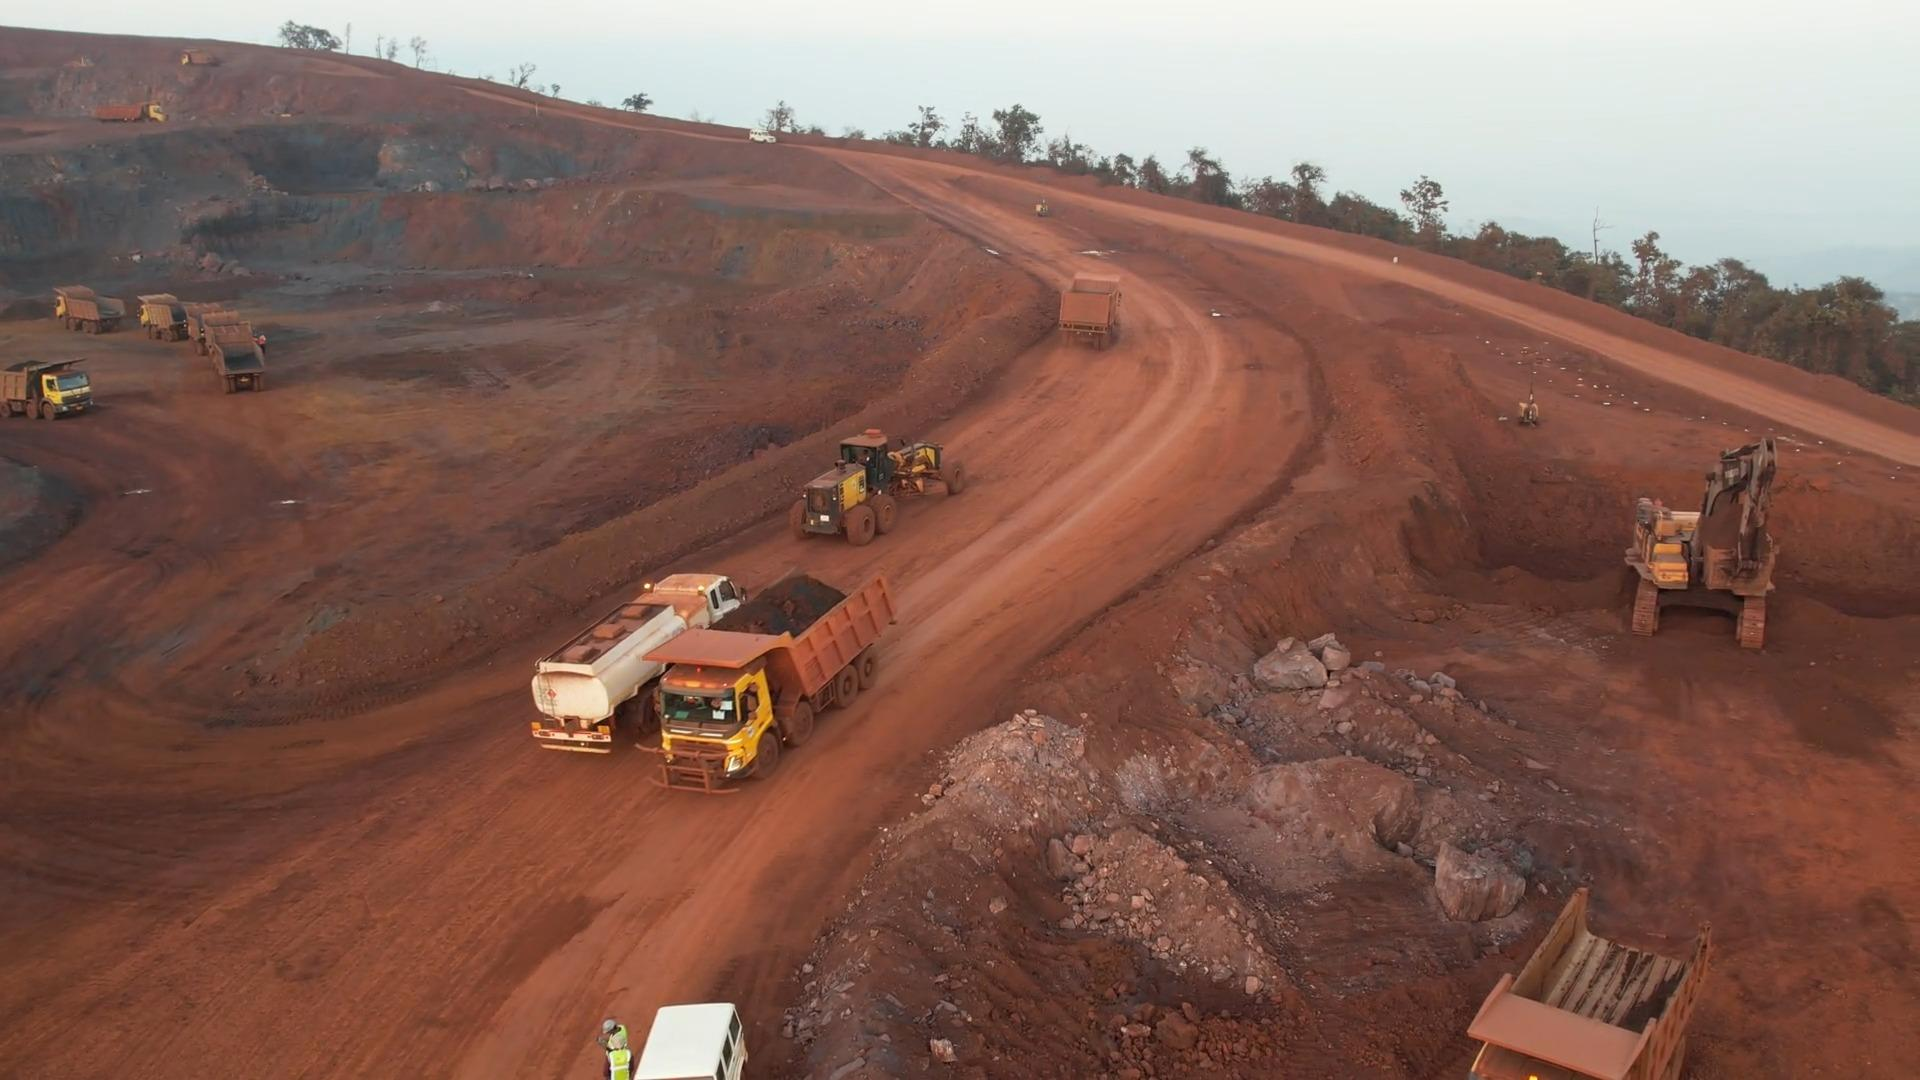excavator: (1630, 438, 1783, 644)
